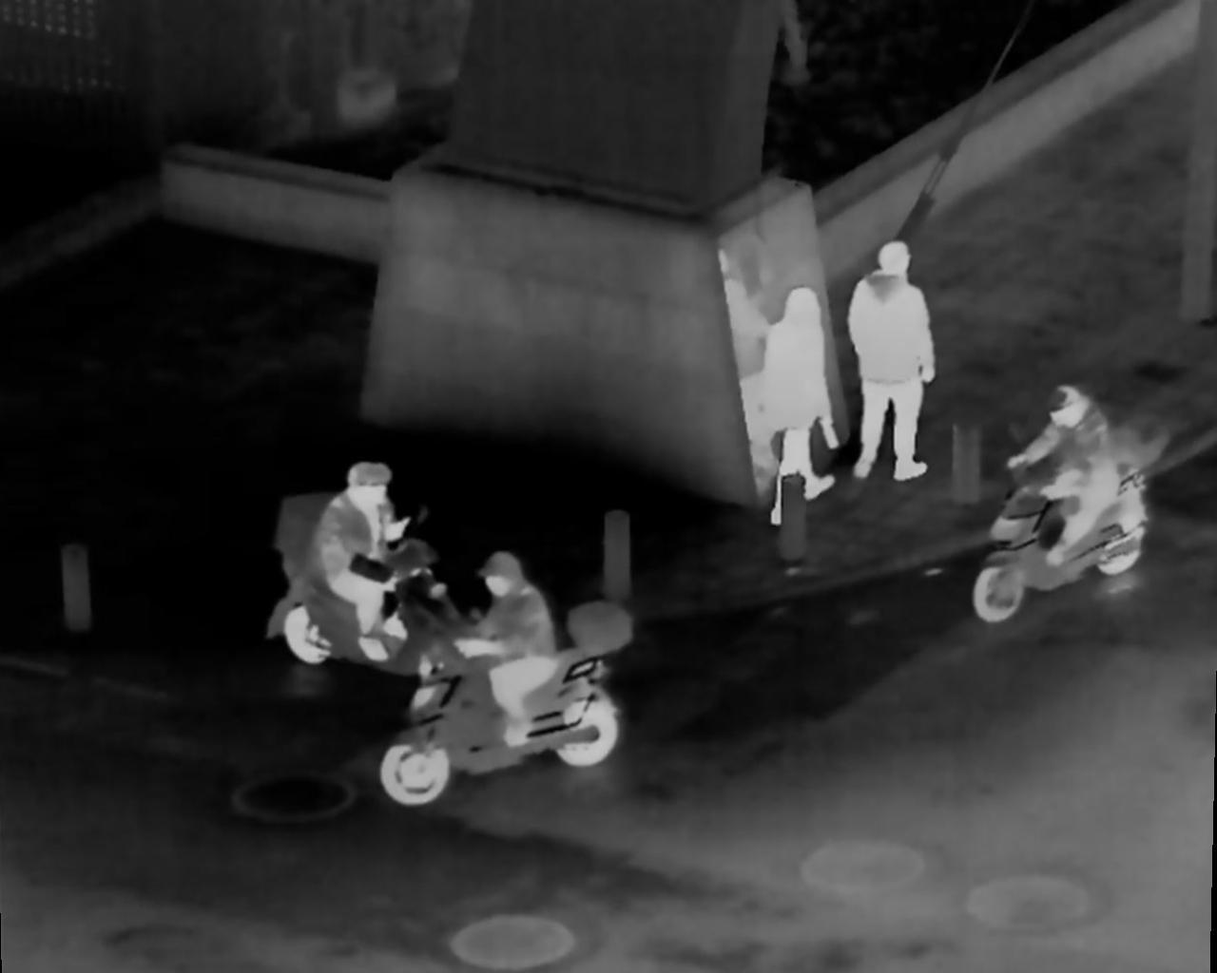person: (865, 238, 948, 490), (763, 295, 848, 522), (473, 541, 563, 754), (1018, 387, 1117, 569), (325, 459, 421, 641)
